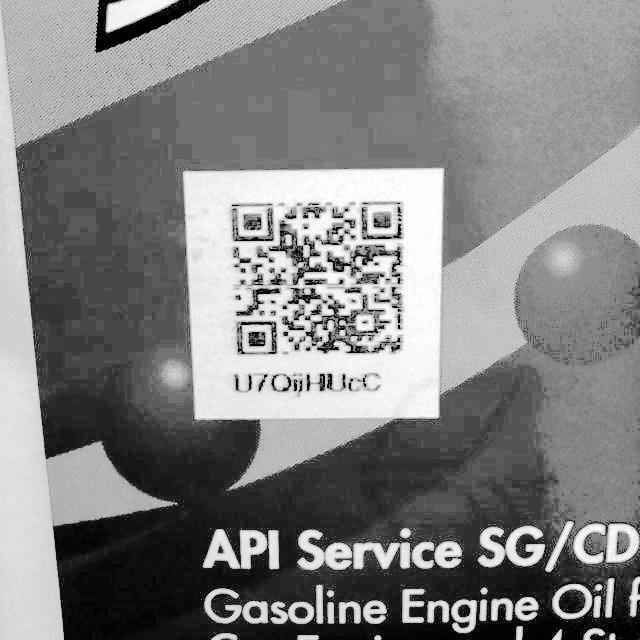qr_code: (223, 193, 415, 364)
